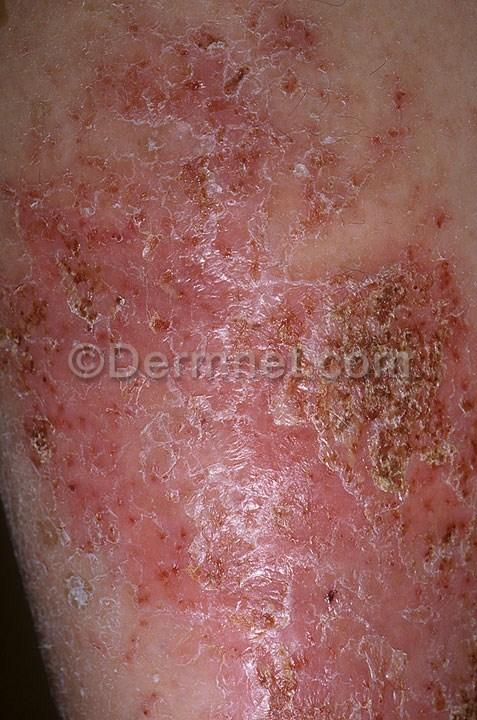Eczema: (0, 12, 326, 338), (0, 378, 288, 677), (318, 0, 477, 350), (301, 381, 474, 615), (291, 614, 477, 720)
